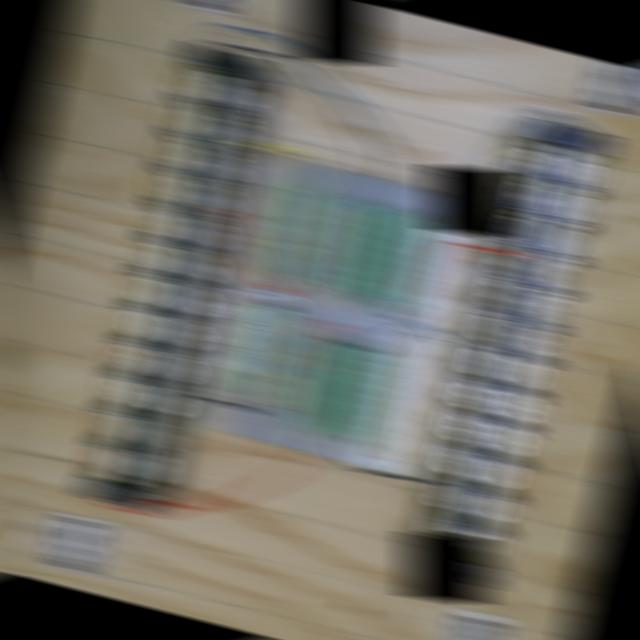Flathead_Block: (78, 41, 263, 514)
Phillips_Block: (420, 116, 611, 589)
Terminal_1: (233, 299, 290, 404), (264, 178, 321, 281)
Terminal_2: (314, 342, 370, 440), (321, 197, 377, 294), (288, 334, 343, 432), (350, 204, 405, 302), (378, 213, 433, 310)
